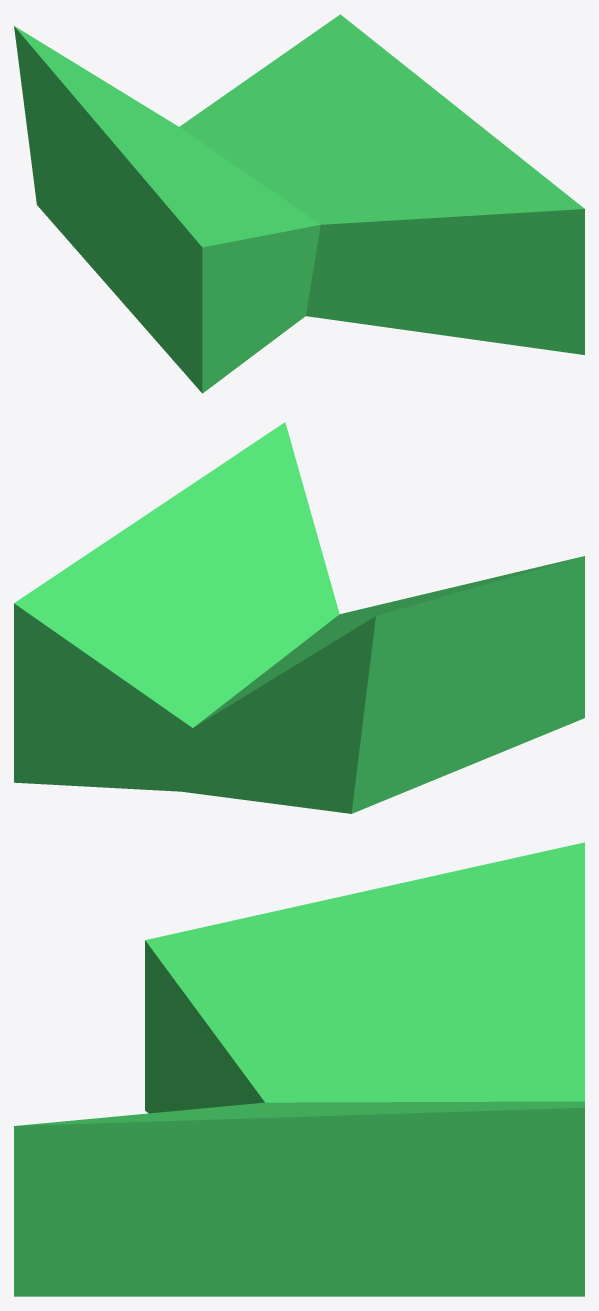
File: asset.glb
The picture shows the model from 3 angles, top to bottom: view 1: azimuth 30°, elevation 25°; view 2: azimuth 150°, elevation 25°; view 3: azimuth 270°, elevation 25°; orthographic projection. The views are drawn at different scales.
Parts seen in each view (by area): view 1: Cube; view 2: Cube; view 3: Cube.
Boxes of the visible parts, bbox=[...] form: Cube: bbox=[14, 14, 584, 393]; Cube: bbox=[14, 422, 584, 813]; Cube: bbox=[14, 842, 584, 1296].
Size of the model in its own units: 1.68 by 1.13 by 2.19.
